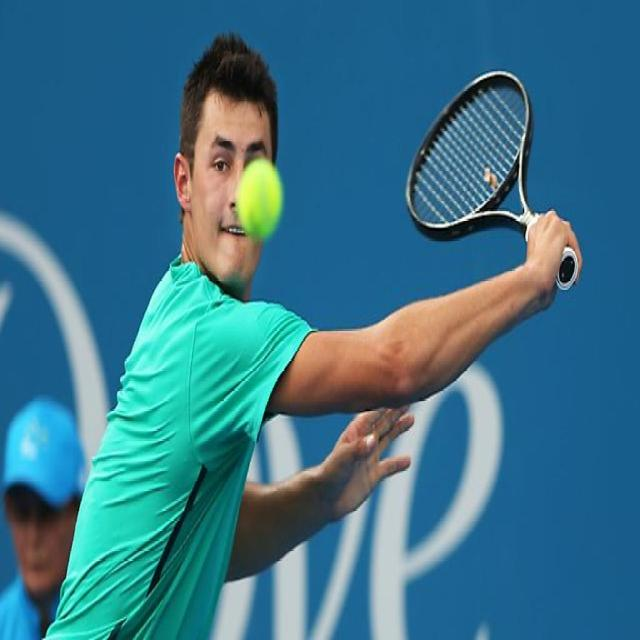Face: (190, 85, 275, 295)
